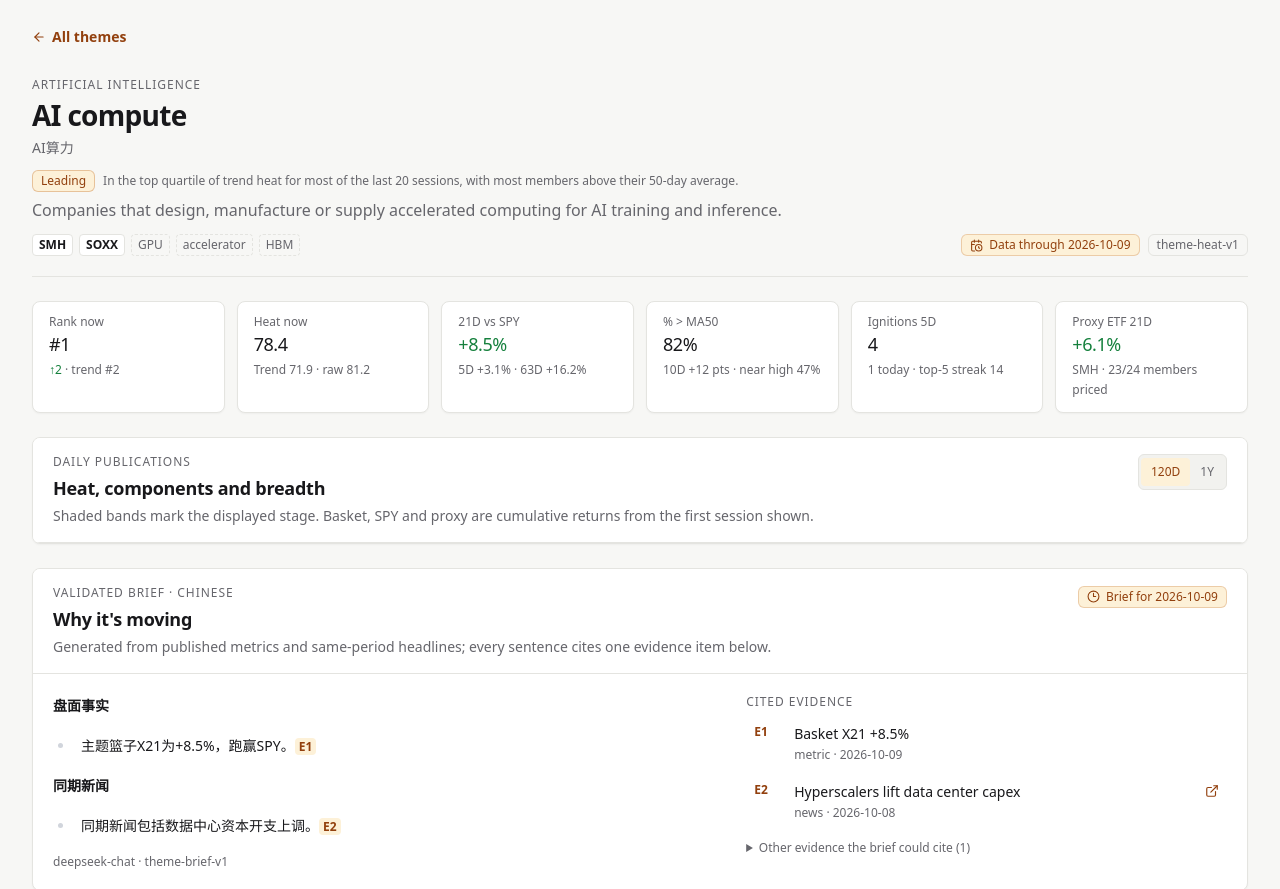
Test case: ThemeDetailPage › keeps the embedded history when the 1Y request fails
Expected: the heading "AI compute" is shown, x1=32 y1=96 x2=186 y2=134
Click the button "1Y" at (1207, 472), box x1=1190 y1=458 x2=1224 y2=486
(page scrolled)
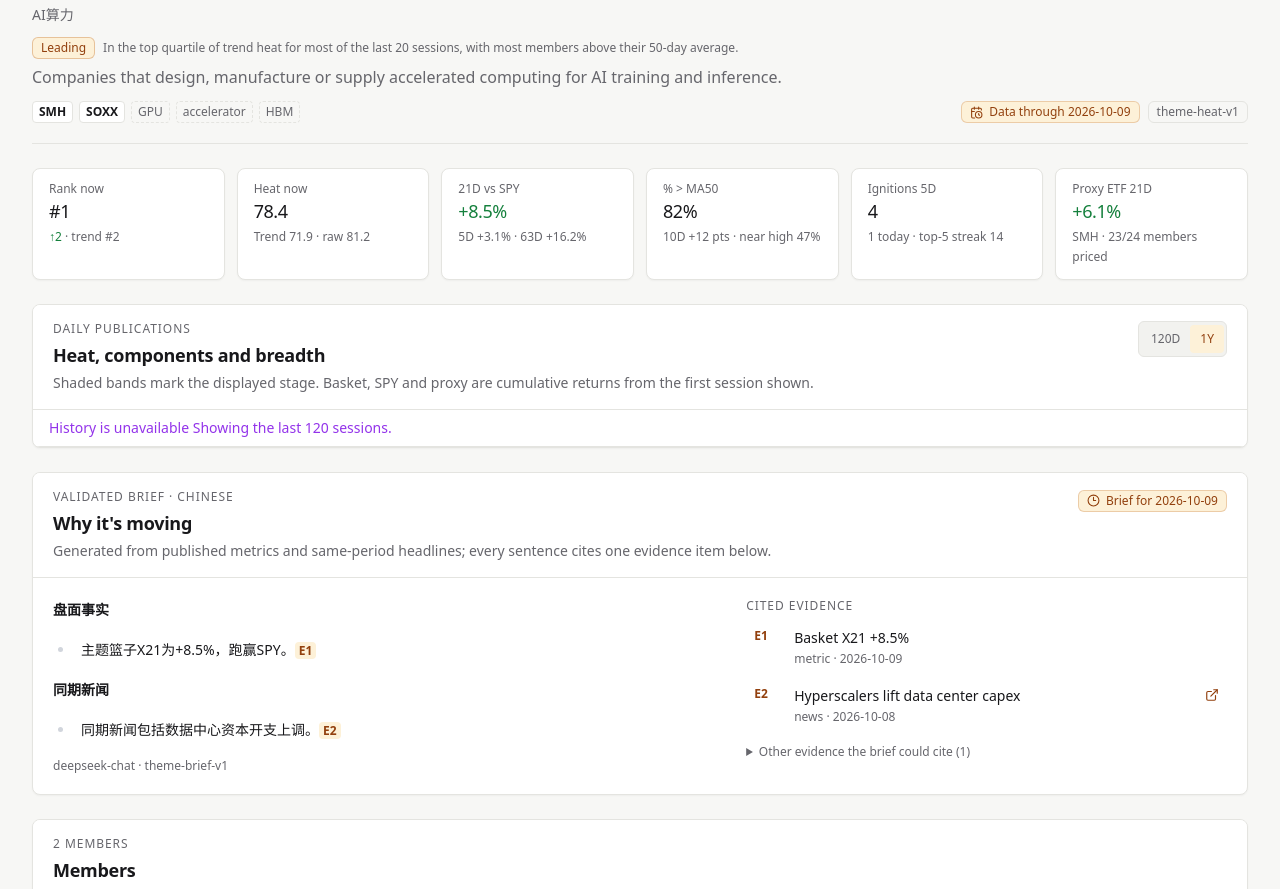
Result: the text "History is unavailable Showing the last 120 sessions." is shown at x1=33 y1=410 x2=1247 y2=447
